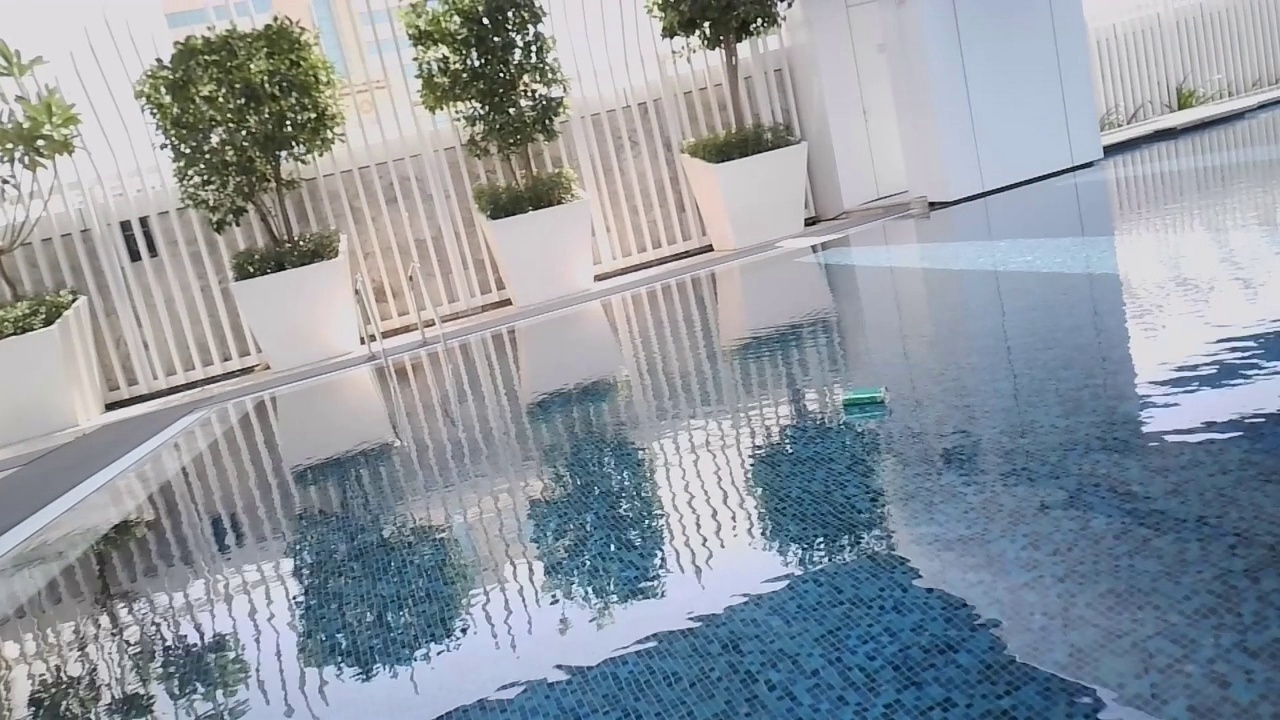debris: (835, 379, 889, 410)
